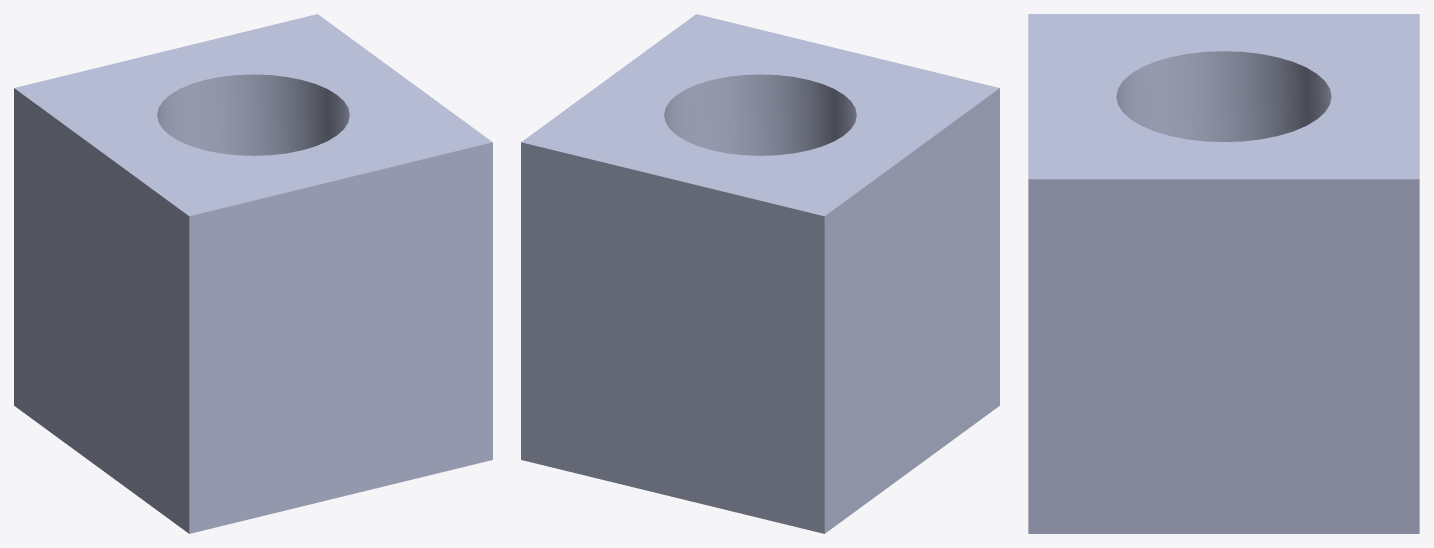
The model's file is cercle.fbx.
3 views of the same model, side by side, from view 1: azimuth 30°, elevation 25°; view 2: azimuth 150°, elevation 25°; view 3: azimuth 270°, elevation 25° (orthographic). The views are drawn at different scales.
Parts seen in each view (by area): view 1: object; view 2: object; view 3: object.
Part boxes in pixels (box(x1,y1,x2,y2)): object: box(14, 14, 492, 533); object: box(521, 14, 999, 533); object: box(1028, 14, 1419, 533).
Size of the model in its own units: 0.002 by 0.002 by 0.002.
